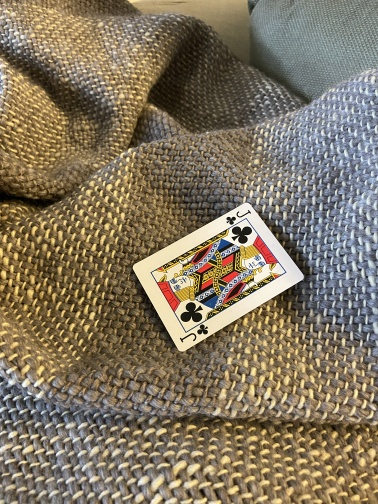jack: (131, 202, 305, 353)
